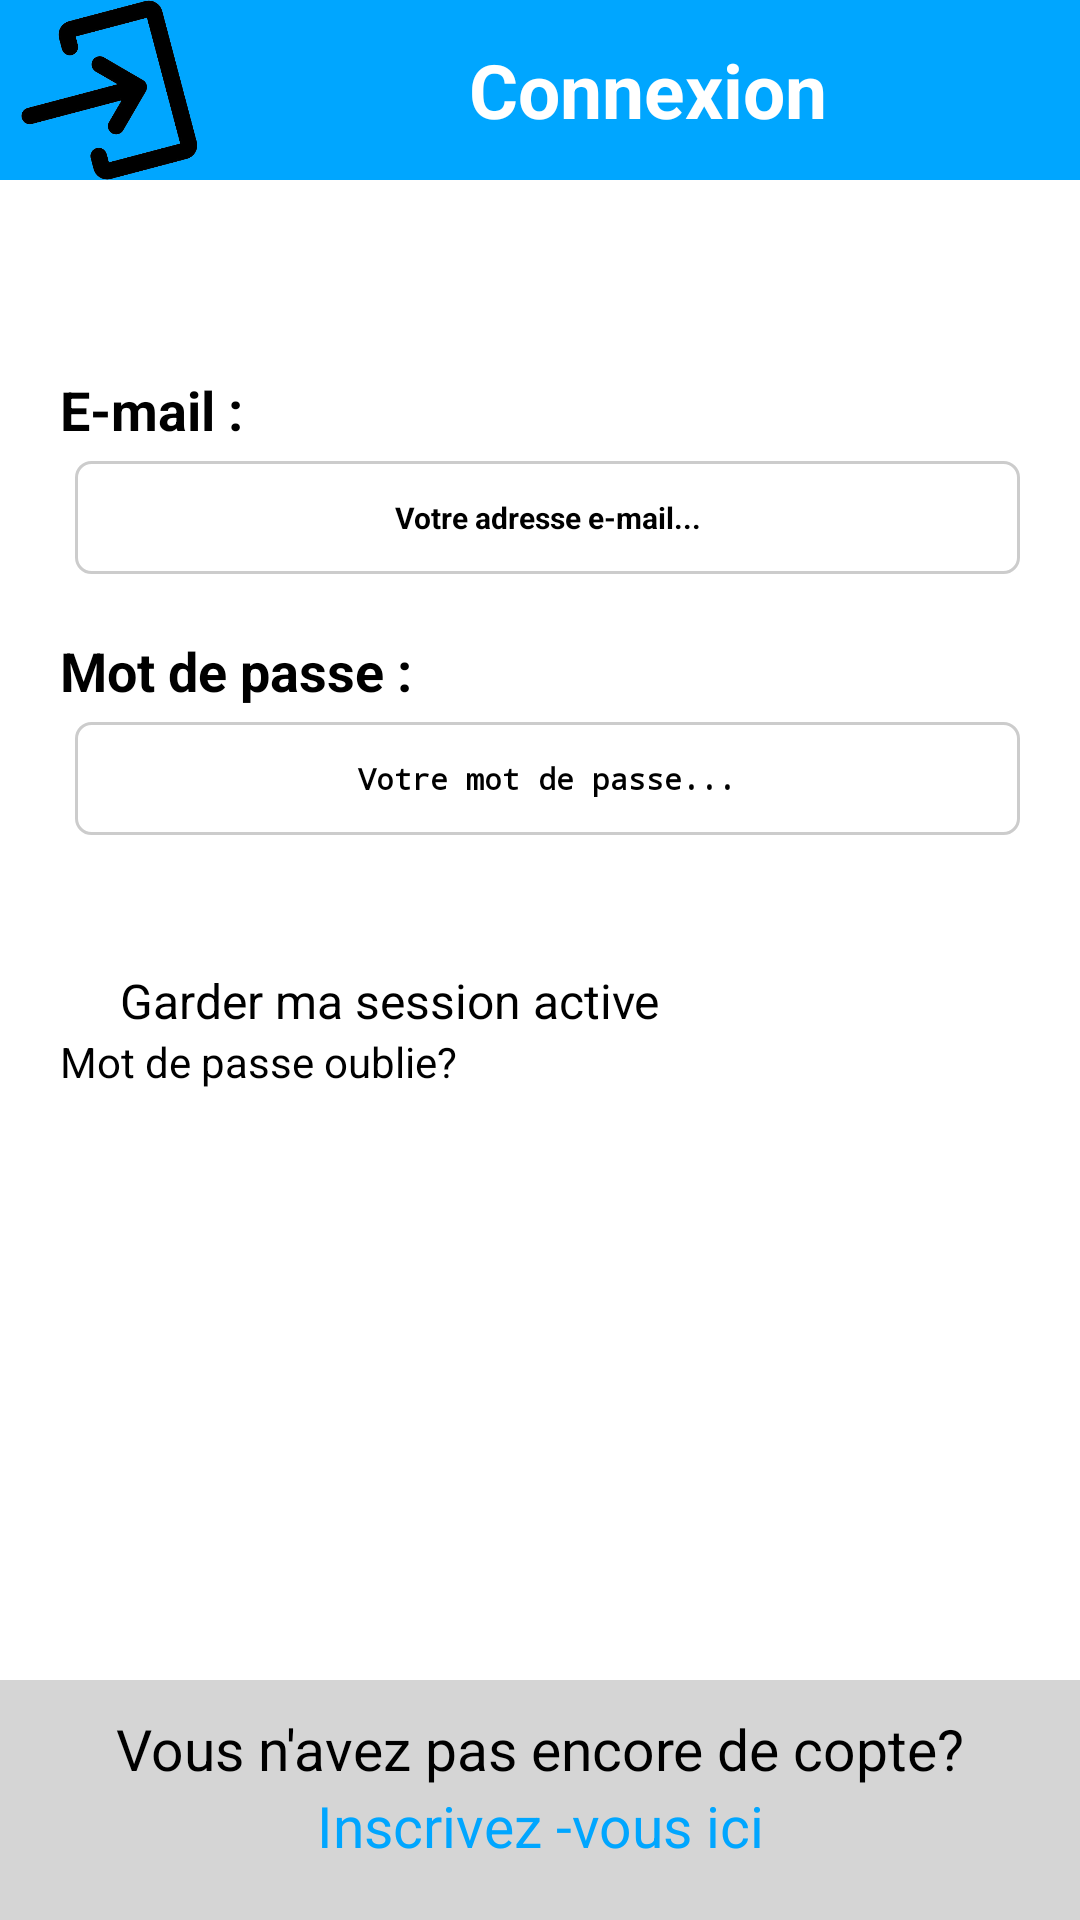

Point at icon controls on the screen. Image size 1080px×1920px, points as point (x, y).
login: point (109, 90)
